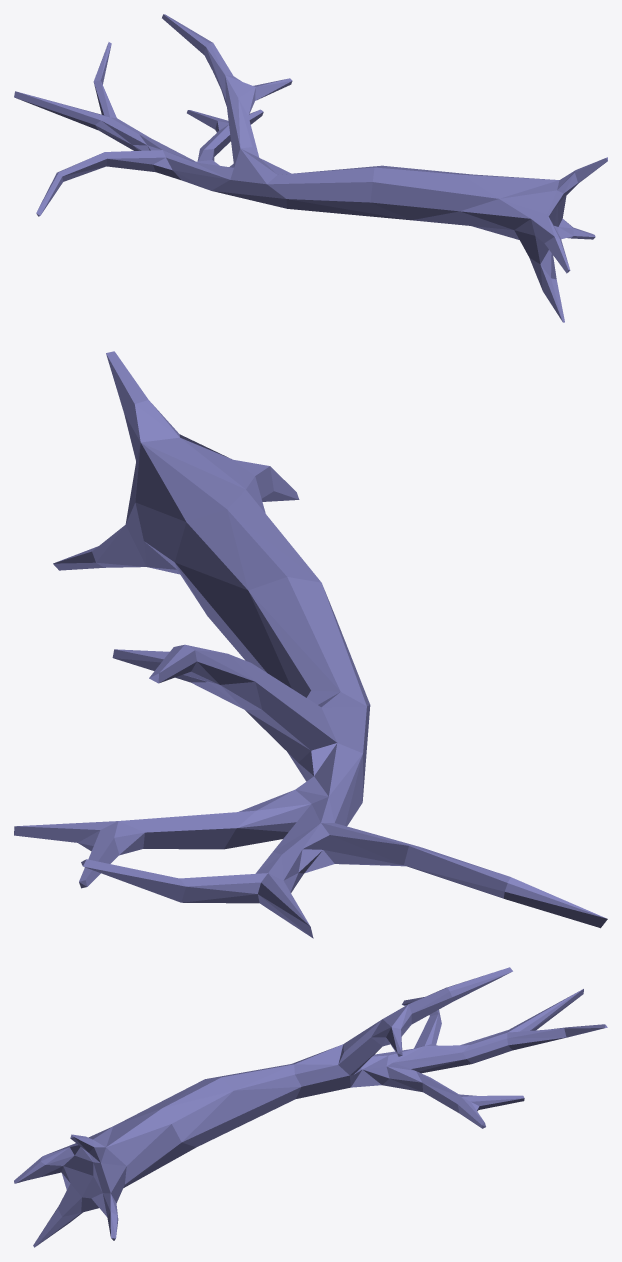
Rendered from SM_Tree_fallen_01.fbx.
3 renders of one model, top to bottom at view 1: azimuth 30°, elevation 25°; view 2: azimuth 150°, elevation 25°; view 3: azimuth 270°, elevation 25°, orthographic. The views are drawn at different scales.
Parts seen in each view (by area): view 1: fallen_tree; view 2: fallen_tree; view 3: fallen_tree.
Boxes of the visible parts, x1=… form: fallen_tree: x1=14, y1=14, x2=607, y2=322; fallen_tree: x1=14, y1=351, x2=607, y2=938; fallen_tree: x1=14, y1=967, x2=607, y2=1247.
Size of the model in its own units: 234 by 97.74 by 274.
